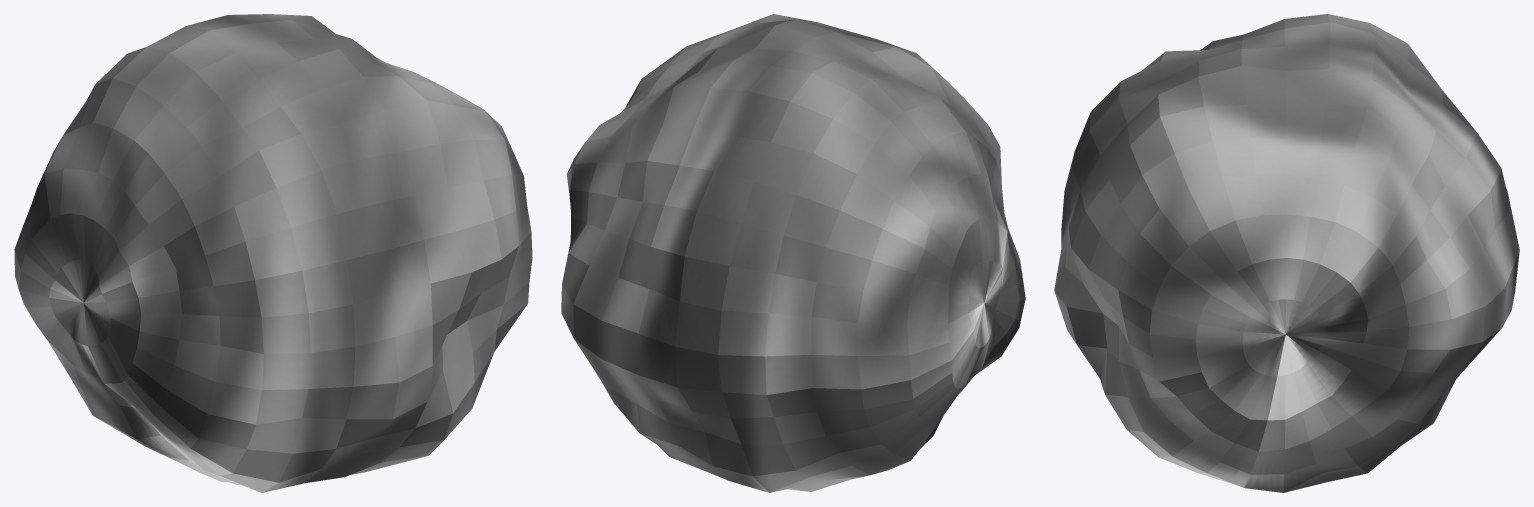
The model's file is Rocks1.fbx.
3 views of the same model, side by side, from view 1: azimuth 30°, elevation 25°; view 2: azimuth 150°, elevation 25°; view 3: azimuth 270°, elevation 25° (orthographic). The views are drawn at different scales.
Visible parts, largest first — view 1: Sphere.001; view 2: Sphere.001; view 3: Sphere.001.
Part boxes in pixels (x1=…): Sphere.001: x1=14, y1=14, x2=532, y2=492; Sphere.001: x1=561, y1=14, x2=1025, y2=492; Sphere.001: x1=1054, y1=14, x2=1519, y2=492.
Bounding box in the file's own units: 209 × 213 × 214.
